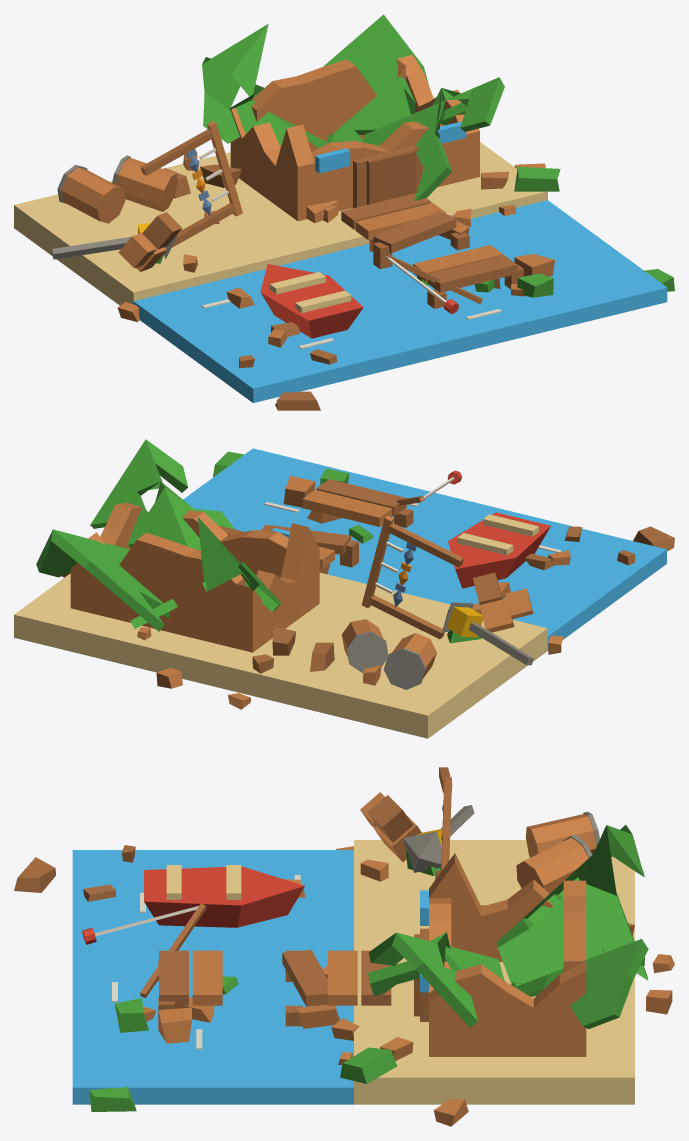
Rendered from fishery_t2_v2_dmg2.glb.
3 views of the same model, one above another, from view 1: azimuth 30°, elevation 25°; view 2: azimuth 150°, elevation 25°; view 3: azimuth 270°, elevation 25° (orthographic). The views are drawn at different scales.
Parts seen in each view (by area): view 1: fishery_t2_v2_dmg2; view 2: fishery_t2_v2_dmg2; view 3: fishery_t2_v2_dmg2.
Boxes of the visible parts, x1=… form: fishery_t2_v2_dmg2: x1=14, y1=14, x2=674, y2=410; fishery_t2_v2_dmg2: x1=14, y1=439, x2=674, y2=738; fishery_t2_v2_dmg2: x1=14, y1=767, x2=674, y2=1126.
Bounding box in the file's own units: 0.8828 × 0.2669 × 0.8818.
Materials: 1 (1 with a texture image).
